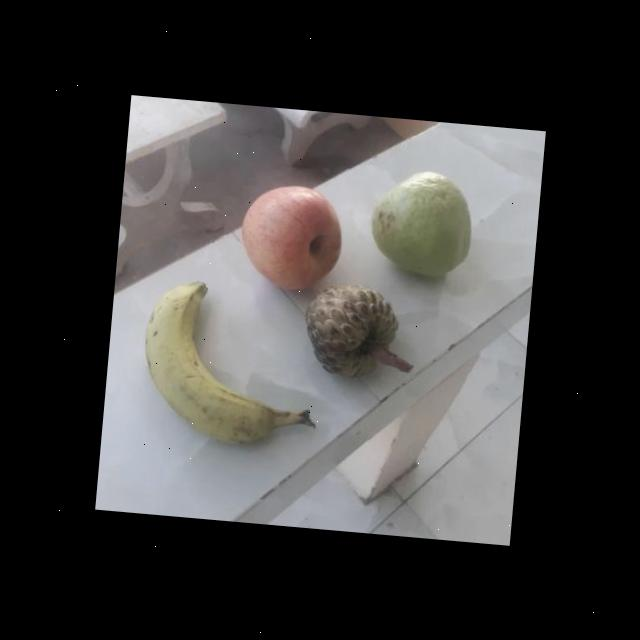Sakya fruit: (302, 280, 414, 385)
apple: (234, 180, 349, 292)
banana: (139, 280, 324, 452)
guava: (371, 170, 478, 276)
